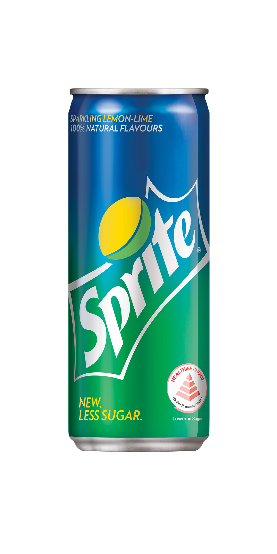sprite: (78, 208, 197, 369)
